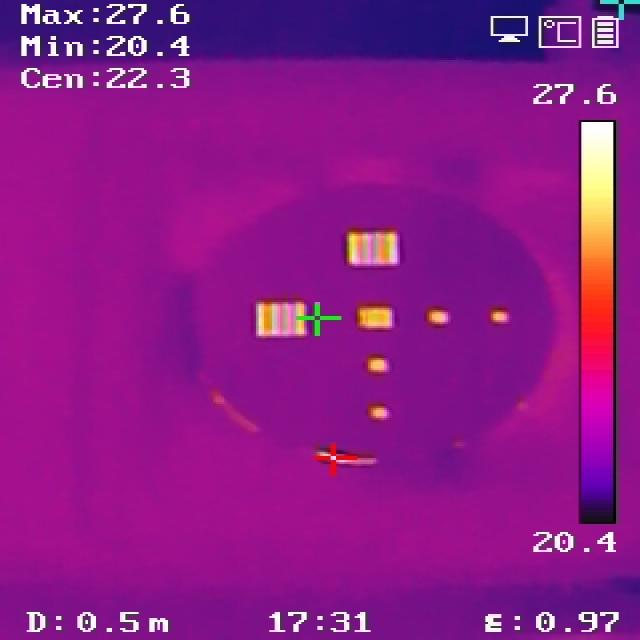Indistinguishable 4-bar target: (356, 306, 396, 329)
threshold 4-bar target: (341, 229, 403, 263), (256, 302, 308, 335)
